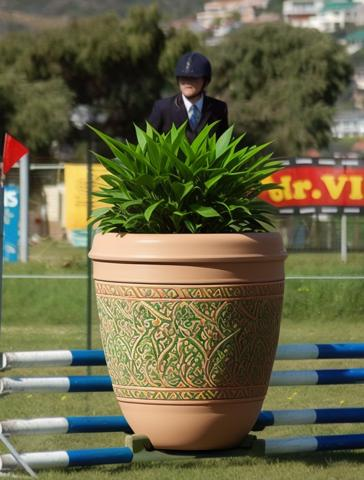person: (106, 47, 232, 308)
pottedplant: (86, 120, 285, 455)
